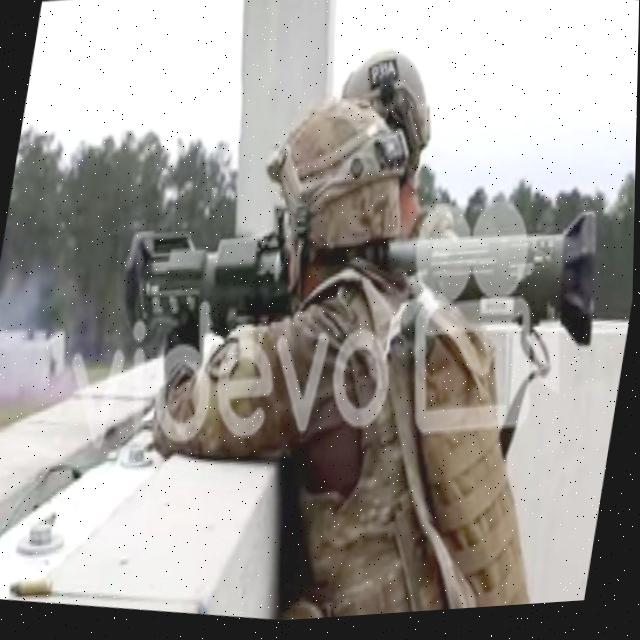rocket: (106, 129, 626, 460)
